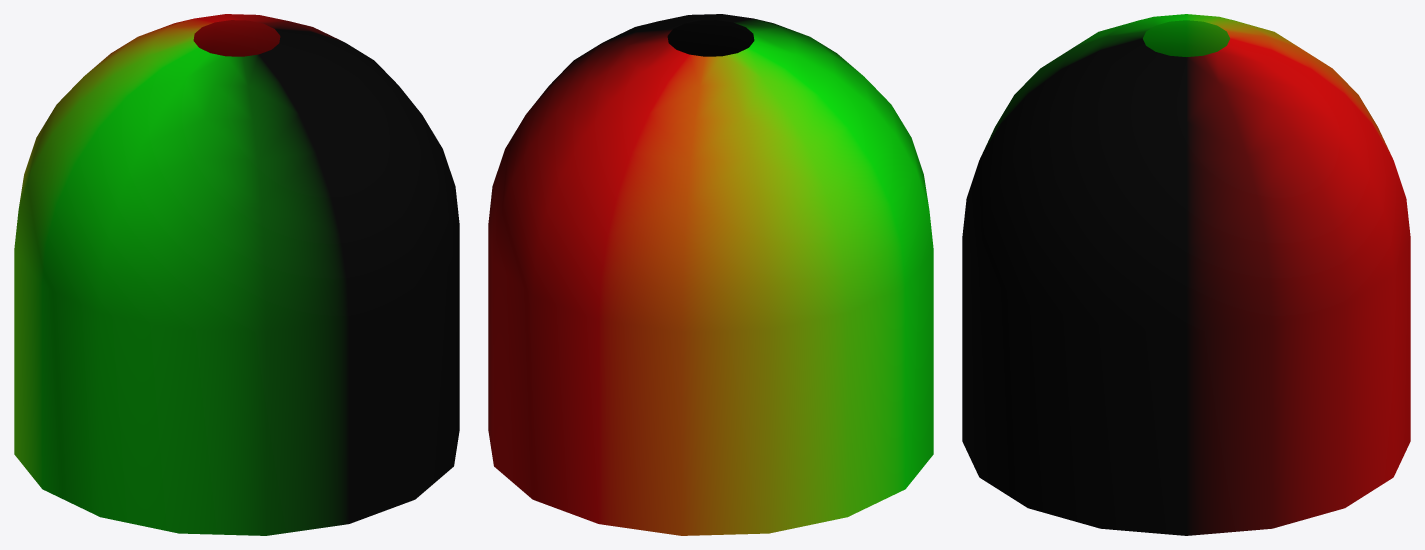
The model's file is uni_capsule_half.fbx.
3 renders of one model, left to right at view 1: azimuth 30°, elevation 25°; view 2: azimuth 150°, elevation 25°; view 3: azimuth 270°, elevation 25°, orthographic.
Parts seen in each view (by area): view 1: uni_capsule_half; view 2: uni_capsule_half; view 3: uni_capsule_half.
Part boxes in pixels (x1,y1,x2,y2): uni_capsule_half: (14,14,459,535); uni_capsule_half: (488,14,933,535); uni_capsule_half: (962,14,1410,535).
Size of the model in its own units: 16000 by 16000 by 15846.
